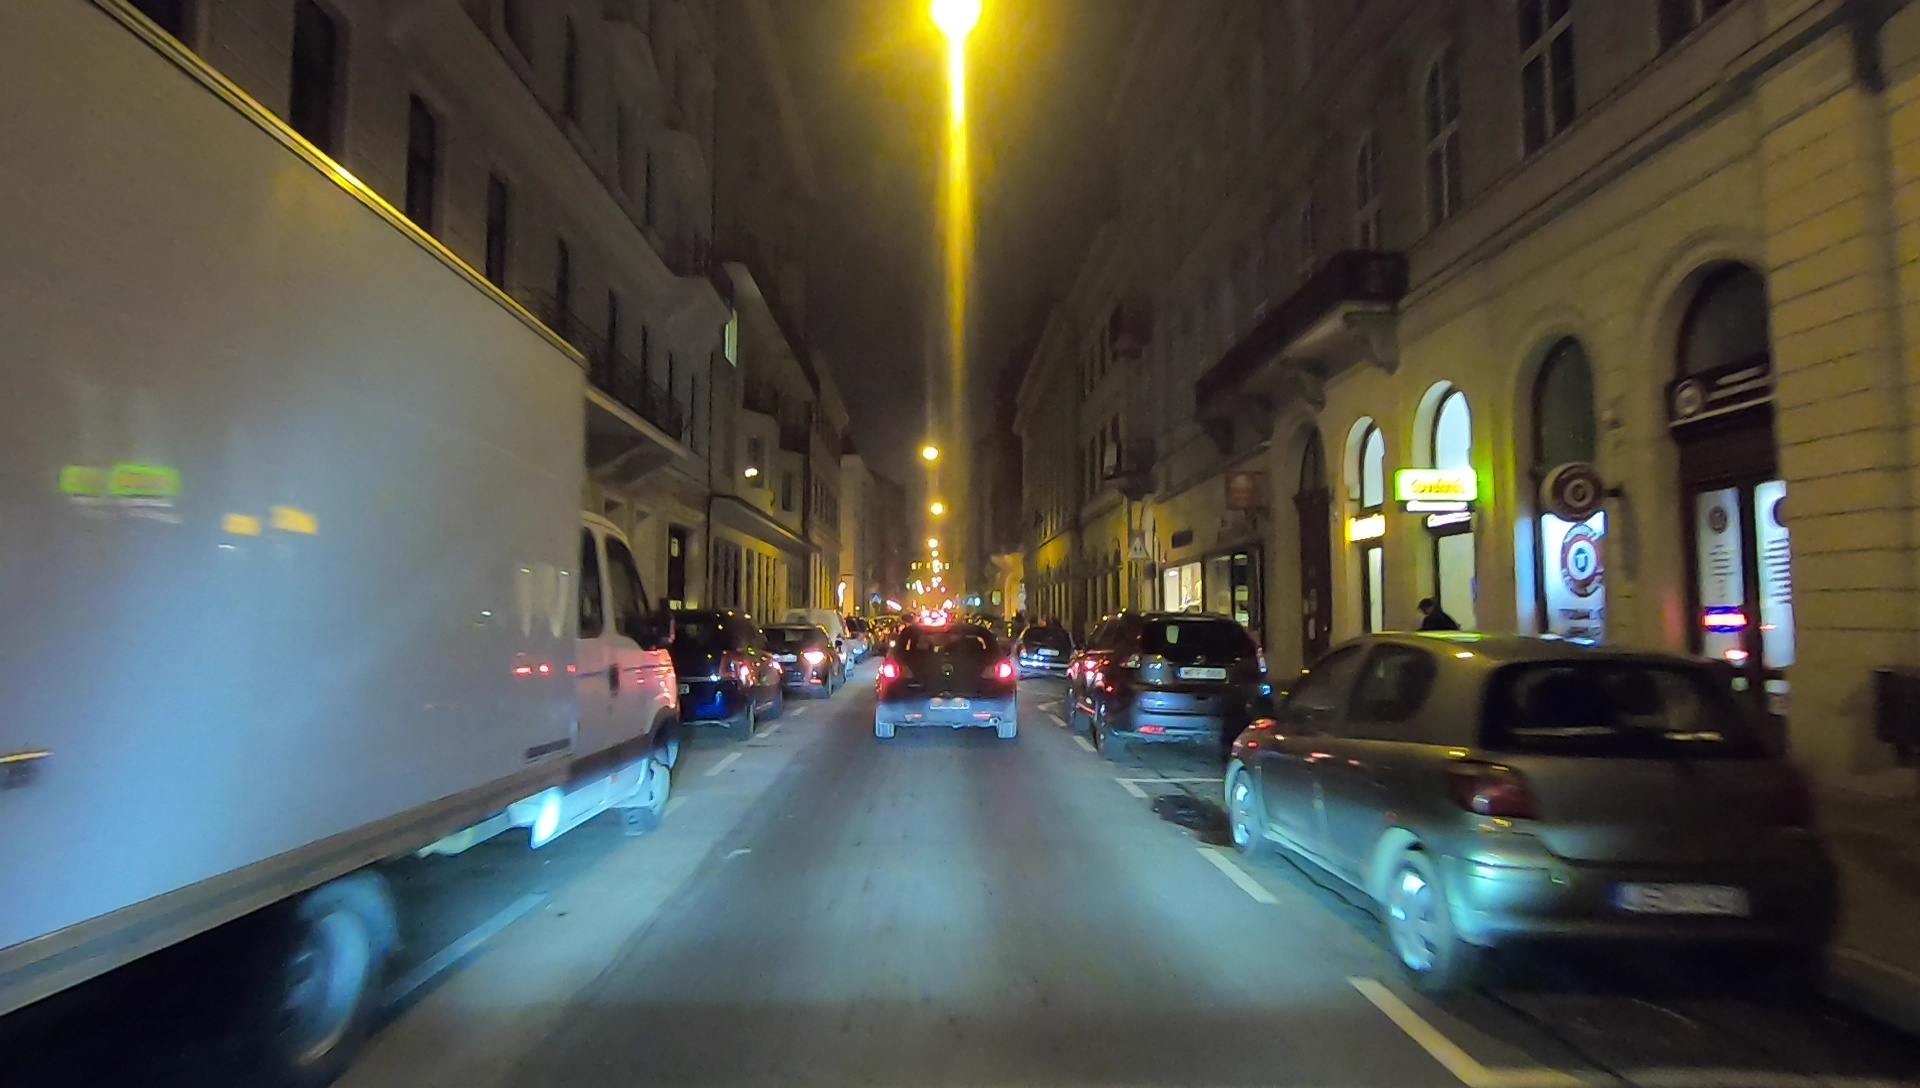person: (1408, 597, 1465, 704)
